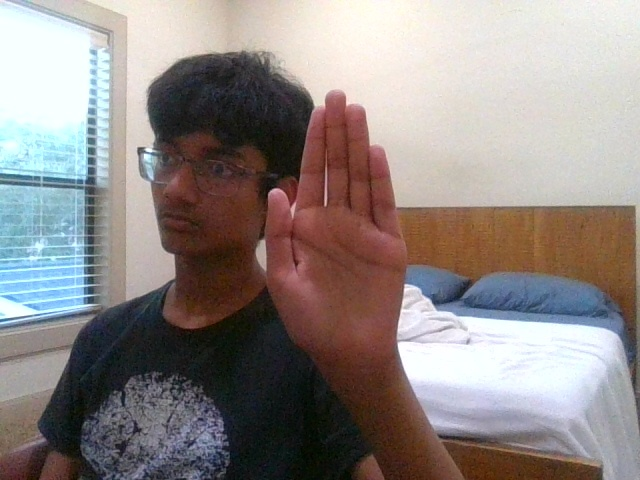hello: (264, 89, 408, 364)
